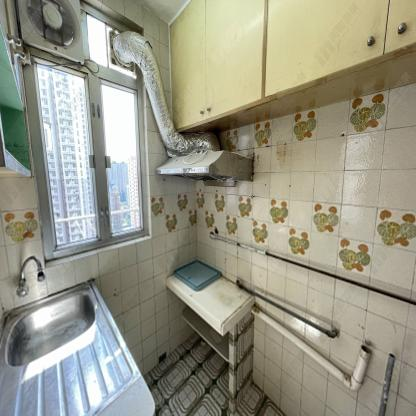Cupboard: (168, 0, 415, 131)
Exhaust Fan: (15, 0, 82, 60)
Exhaust Hood: (159, 148, 255, 180)
Faucet: (12, 250, 47, 300)
Sink: (1, 279, 135, 416)
